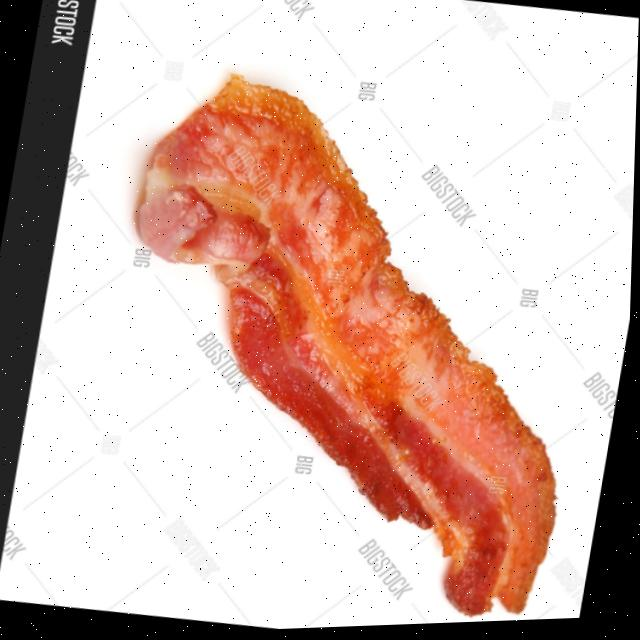Bacon: (138, 77, 558, 620)
